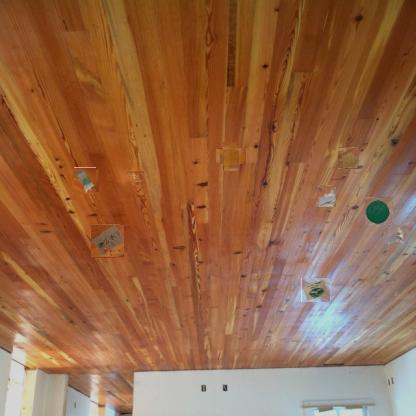dirty: (90, 224, 124, 258), (365, 198, 393, 226), (303, 277, 329, 304), (73, 169, 98, 193), (316, 186, 336, 208), (387, 225, 407, 245)
liquid: (220, 144, 242, 168), (338, 147, 359, 168)
